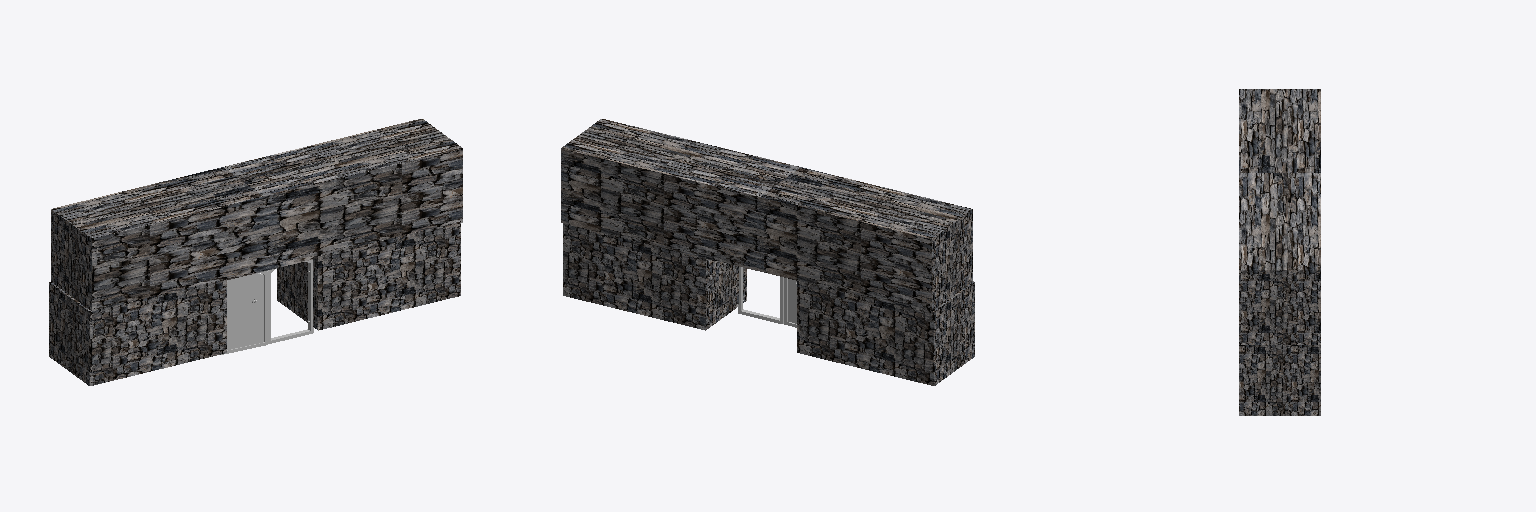
3 renders of one model, left to right at view 1: azimuth 30°, elevation 25°; view 2: azimuth 150°, elevation 25°; view 3: azimuth 270°, elevation 25°, orthographic.
Parts seen in each view (by area): view 1: Cube.001, door_Torus.002, frame_Torus.000; view 2: Cube.001, frame_Torus.000; view 3: Cube.001.
Boxes of the visible parts, x1,y1,x2,y2 form: Cube.001: [49, 119, 462, 385]; door_Torus.002: [227, 273, 263, 349]; frame_Torus.000: [268, 260, 313, 343]; Cube.001: [561, 119, 974, 385]; frame_Torus.000: [738, 267, 783, 323]; Cube.001: [1239, 89, 1320, 415].
Size of the model in its own units: 10.51 by 4.14 by 2.01.
Materials: 4 (1 with a texture image).